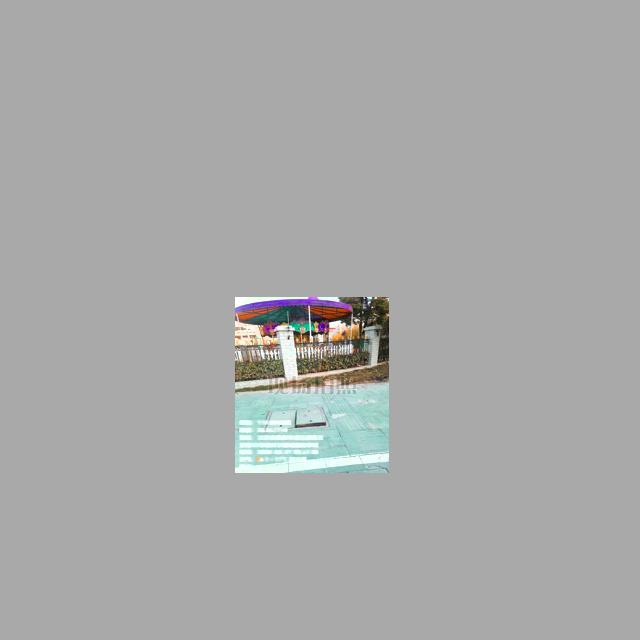uncovered: (260, 407, 330, 432)
